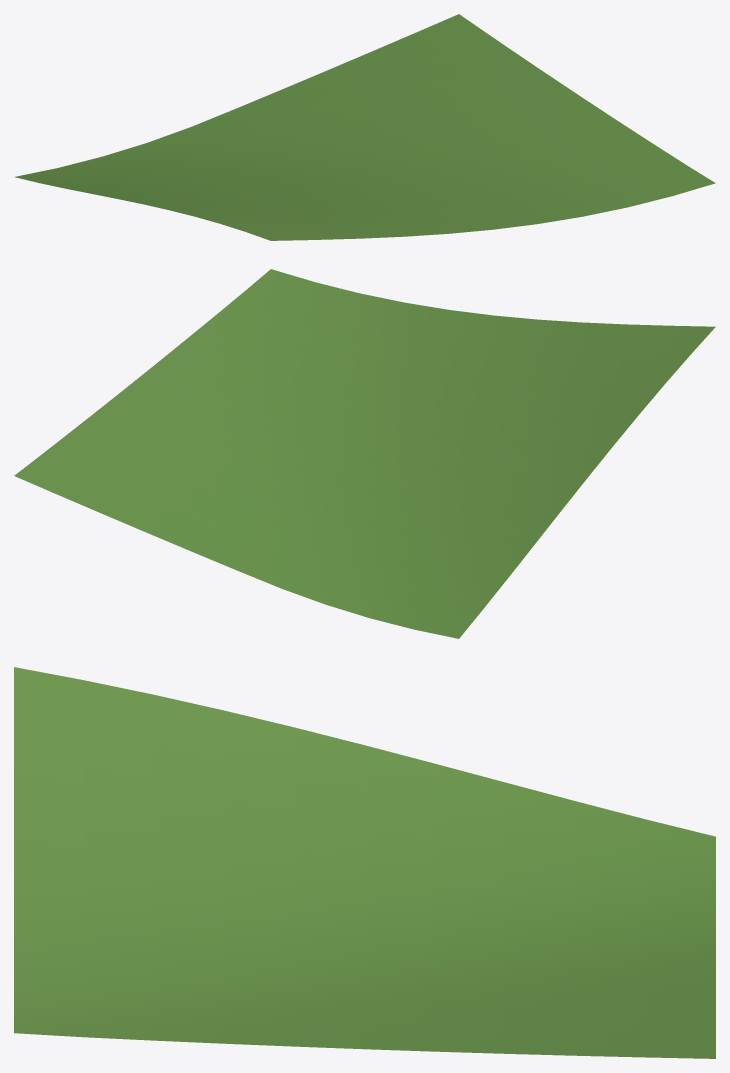
Rendered from terrain-8-7.gltf.
3 renders of one model, top to bottom at view 1: azimuth 30°, elevation 25°; view 2: azimuth 150°, elevation 25°; view 3: azimuth 270°, elevation 25°, orthographic. The views are drawn at different scales.
Size of the model in its own units: 50 by 13.51 by 50.
